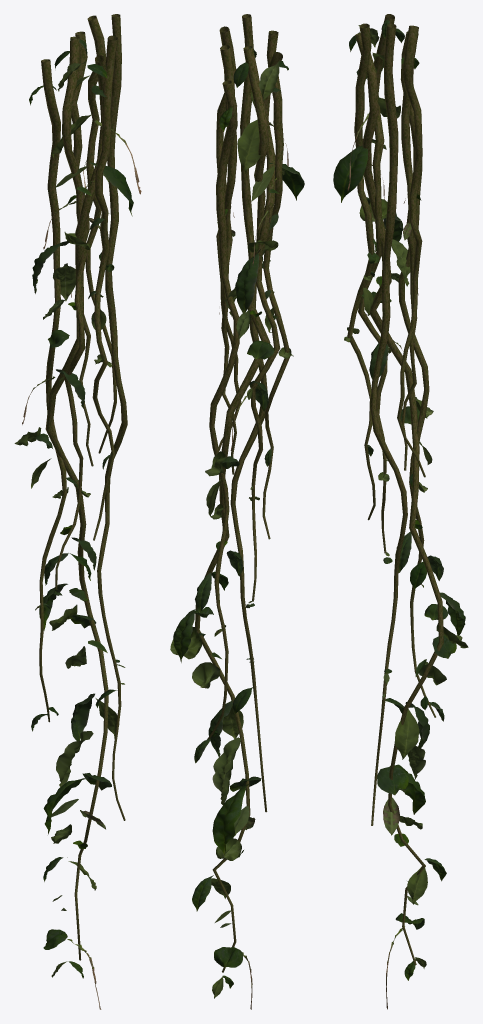
File: SM_Vine_C.fbx
3 renders of one model, left to right at view 1: azimuth 90°, elevation 25°; view 2: azimuth 150°, elevation 25°; view 3: azimuth 330°, elevation 25°, orthographic.
Visible parts, largest first — view 1: SM_Vine_C_LOD0; view 2: SM_Vine_C_LOD0; view 3: SM_Vine_C_LOD0.
Part boxes in pixels (box(x1,y1,x2,y2)): SM_Vine_C_LOD0: box(14, 14, 141, 1009); SM_Vine_C_LOD0: box(170, 14, 304, 1009); SM_Vine_C_LOD0: box(333, 14, 468, 1009).
Bounding box in the file's own units: 73.84 × 76.33 × 656.
